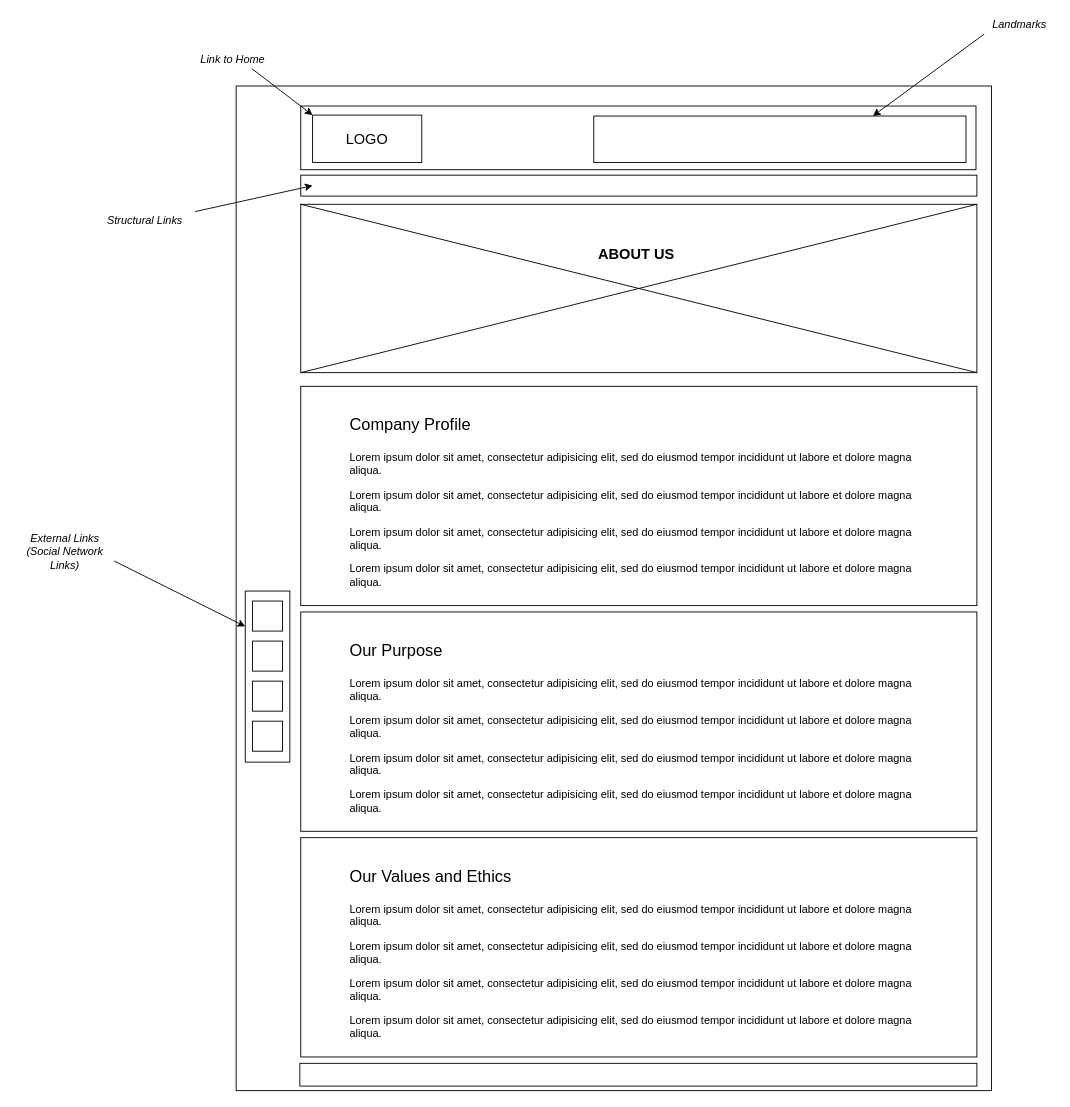
The diagram is 1070 pixels wide and 1107 high, and some of its shapes have lost their labels. Here are the shapes that lost their labels. From the top down, the box of each, then its label:
(593, 115, 966, 162): About Us Services Industries Our Team Contact Us
(300, 174, 977, 196): Anchor Links
(299, 1062, 977, 1086): Footer
